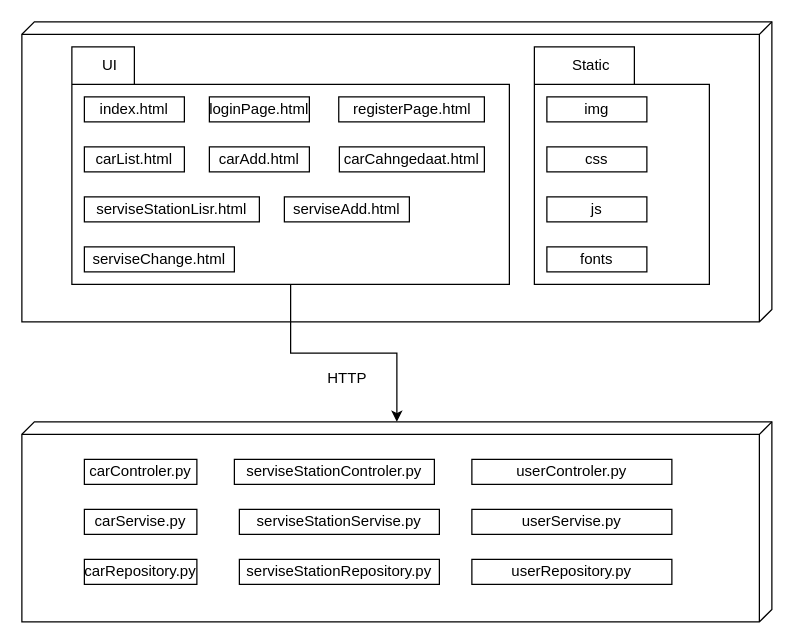
The diagram is 794 pixels wide and 644 high, and some of its shapes have lost their labels. The box of each missing label's shape, as (x1, y1, x2, y2) in pixels:
Client: (21, 21, 772, 322)
Server: (21, 421, 772, 622)
